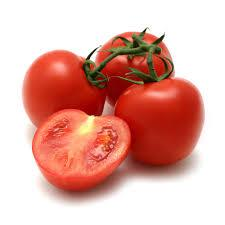tomato: (114, 75, 206, 167), (23, 51, 107, 136), (95, 31, 176, 108)
